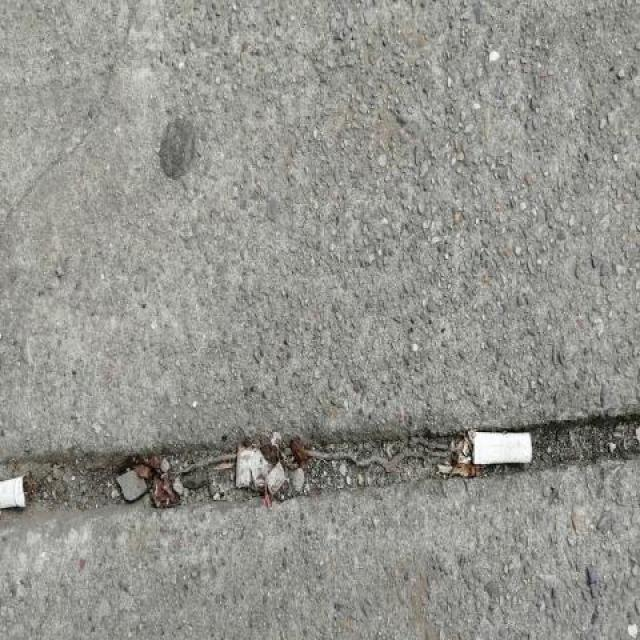non-organic waste: (466, 424, 541, 472)
